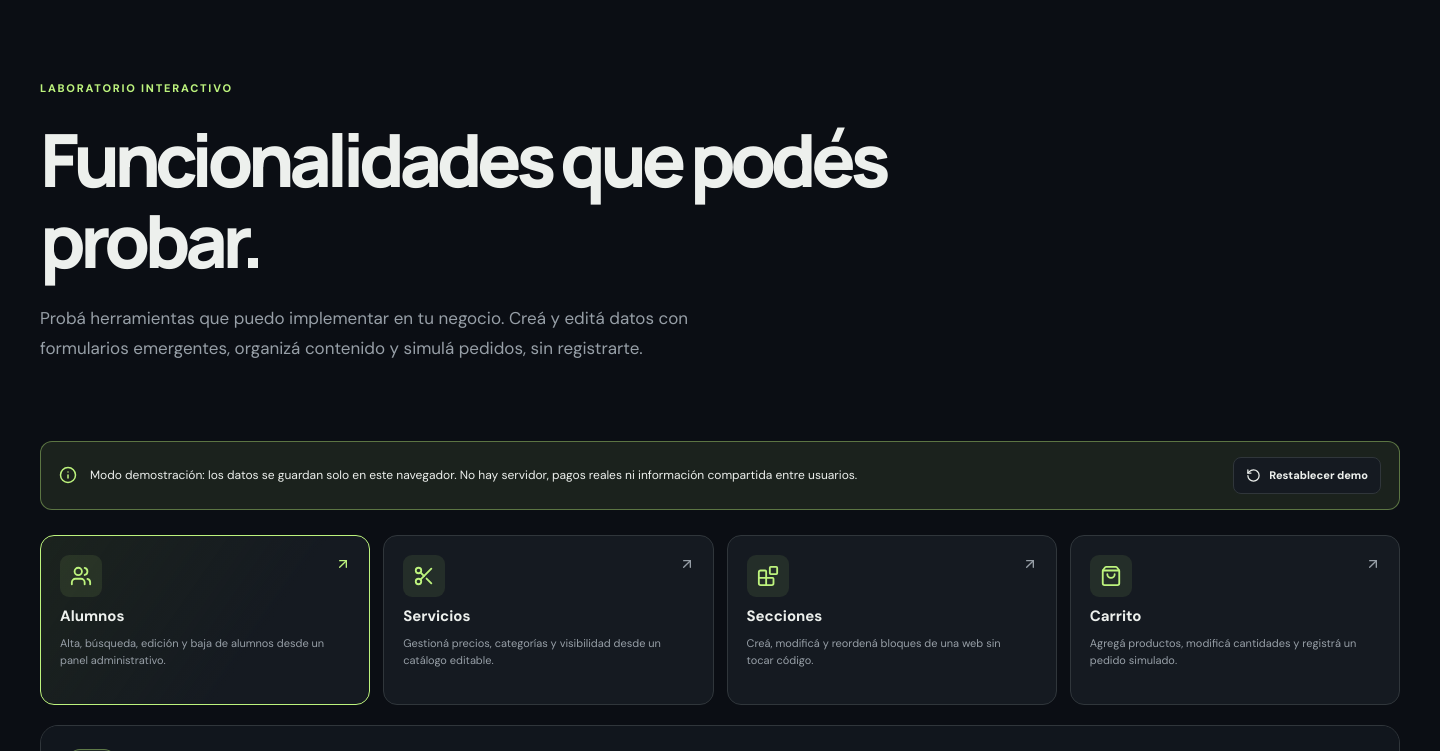
it: LabPage — shopping cart demo › adds two units of a product through the modal and saves the cart
The width and height of the screenshot is (1440, 751).
What coordinates should you click on to do the following:
click the tab "Carrito"
I would click on:
 (1111, 576)
Its box is 1070,535 -> 1400,705.
(page scrolled)
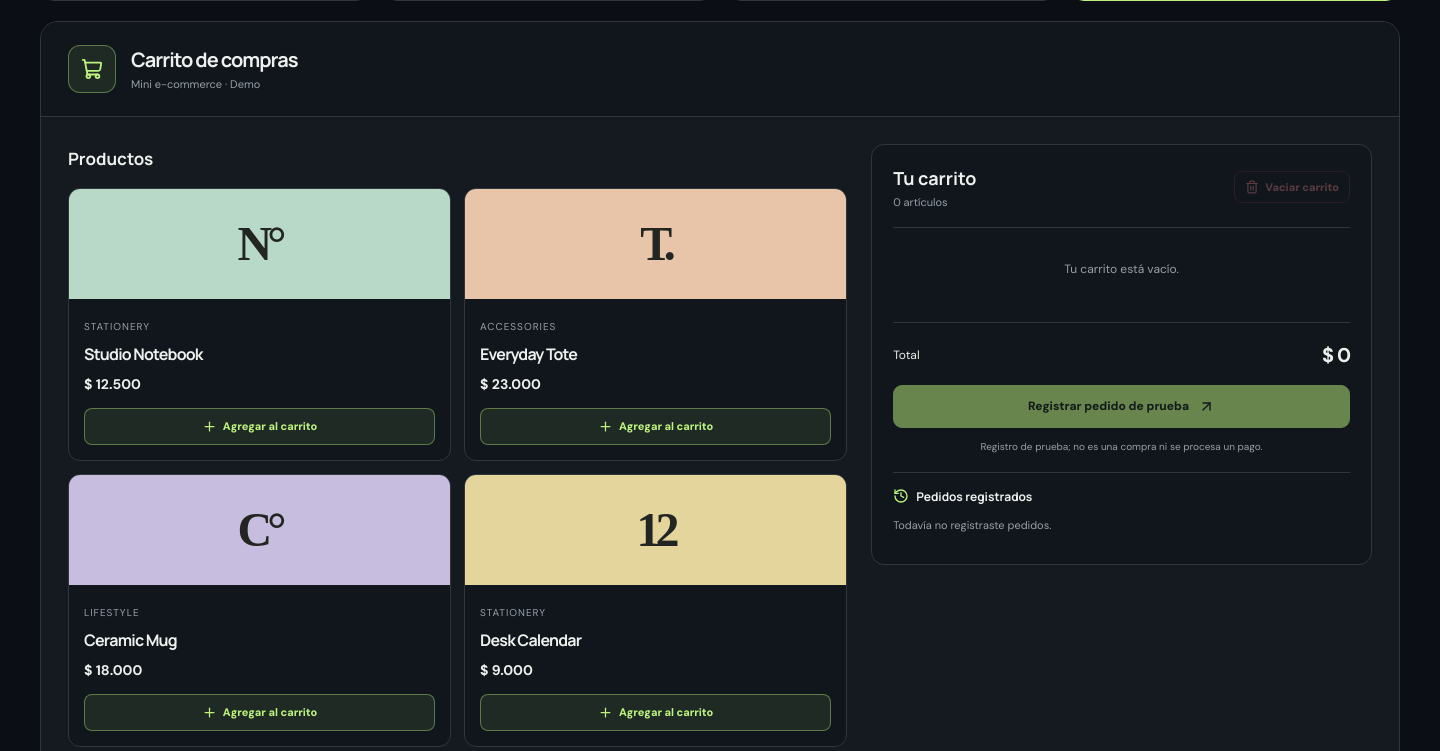
What coordinates should you click on to do the following:
click the button "Agregar al carrito" below "$ 12.500"
I would click on:
 (260, 426)
Its box is 84,408 -> 435,445.
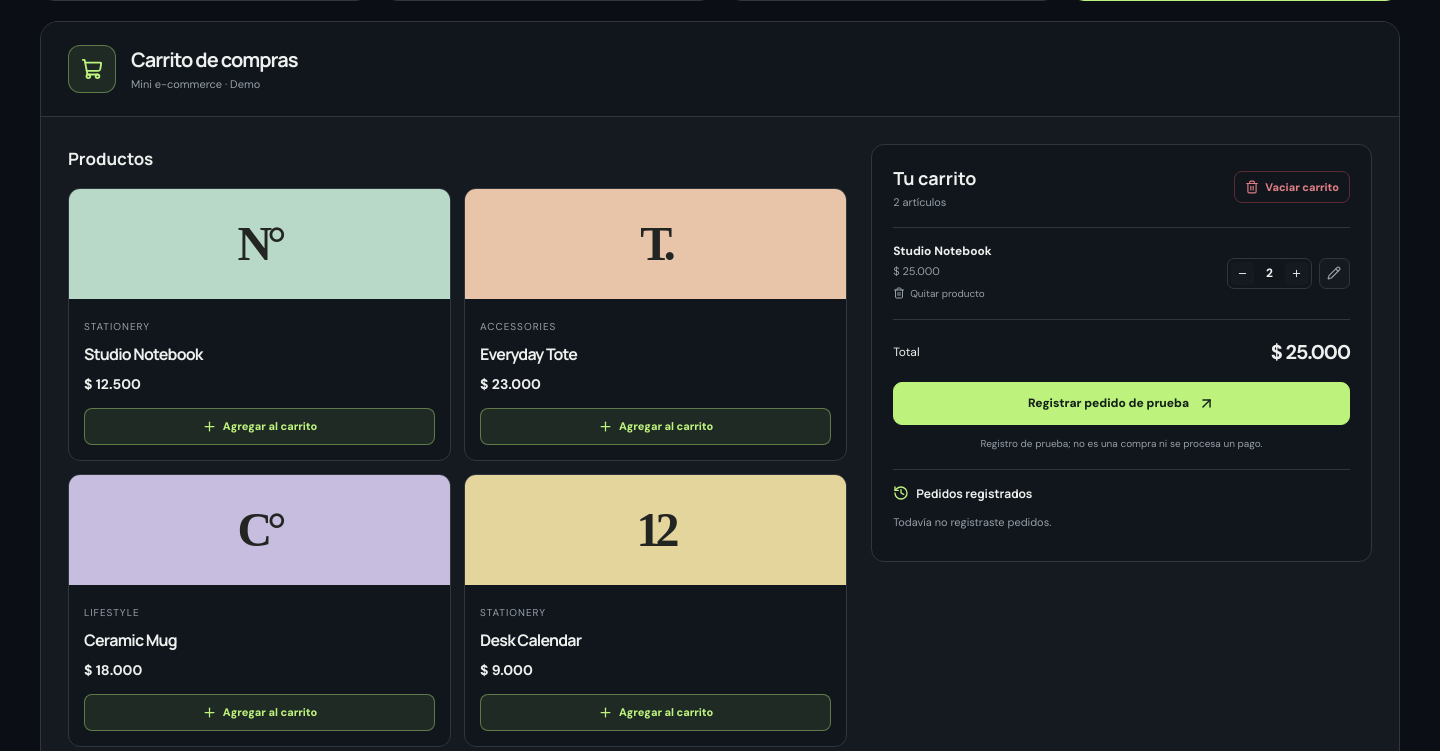
Now the button "Vaciar carrito" is enabled, box 1234,171 -> 1350,203
